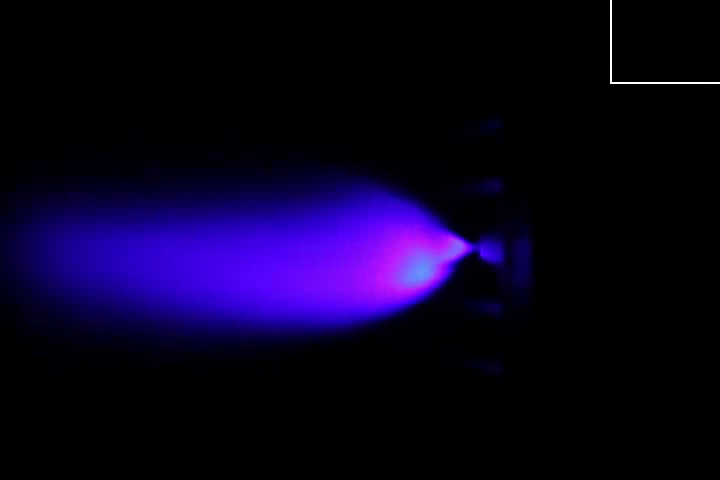burner cap: (475, 233, 510, 269)
stable: (325, 206, 476, 301)
